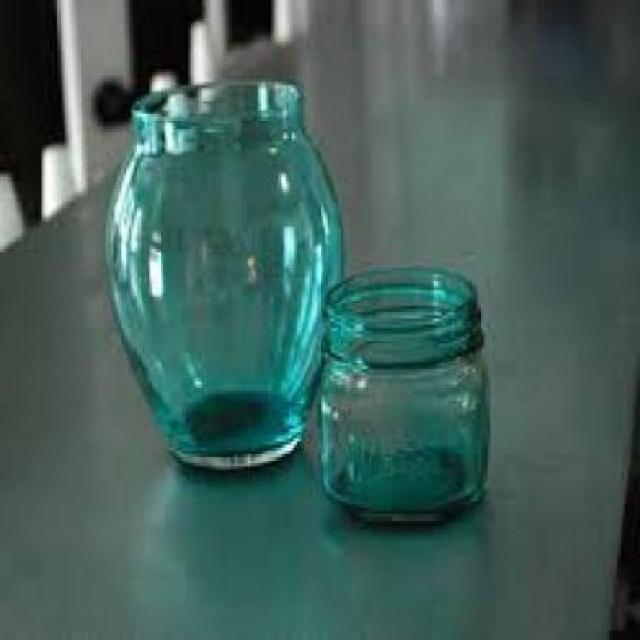kaca: (103, 80, 342, 468), (312, 268, 491, 517)
